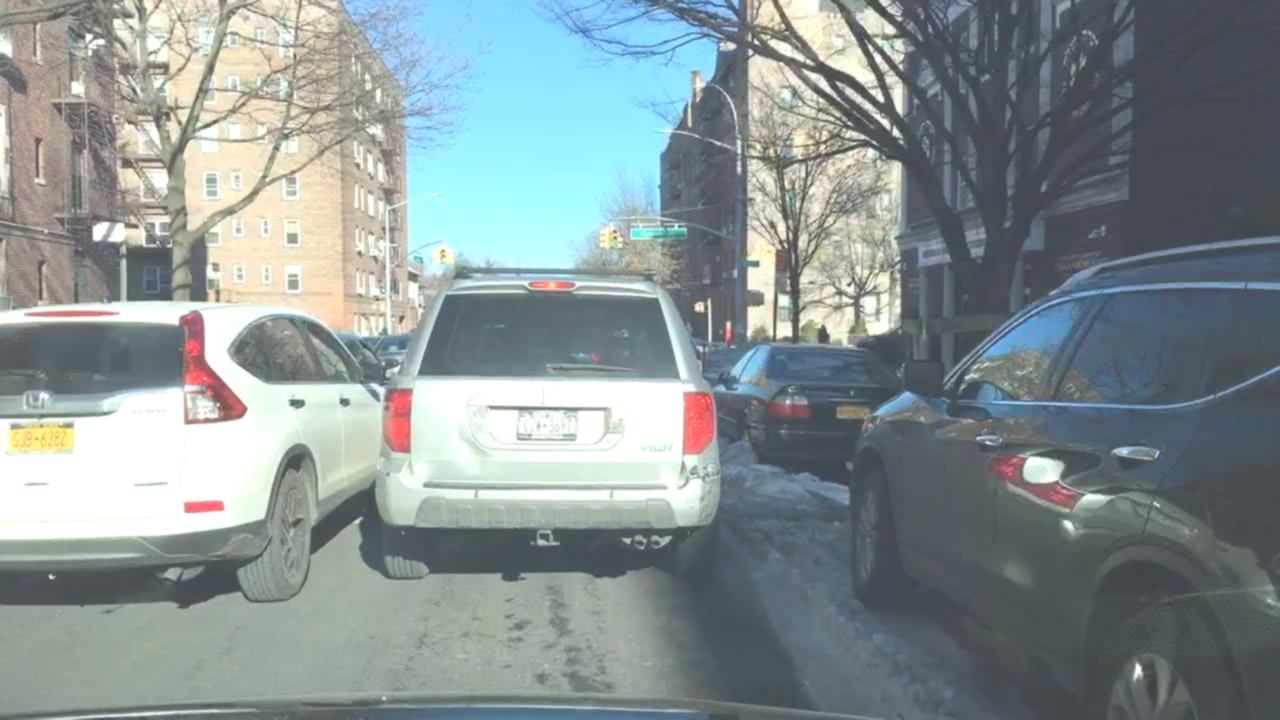Honda: (16, 382, 54, 415), (532, 382, 567, 410)
